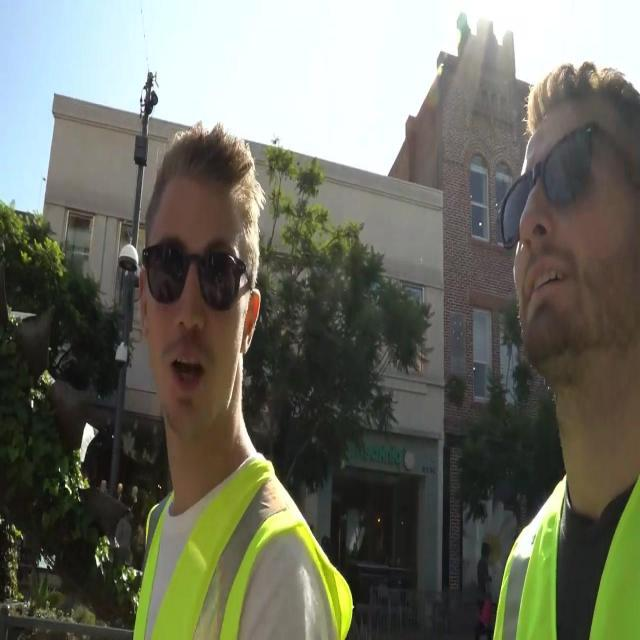NoHelmet: (133, 122, 279, 429), (499, 65, 640, 372)
